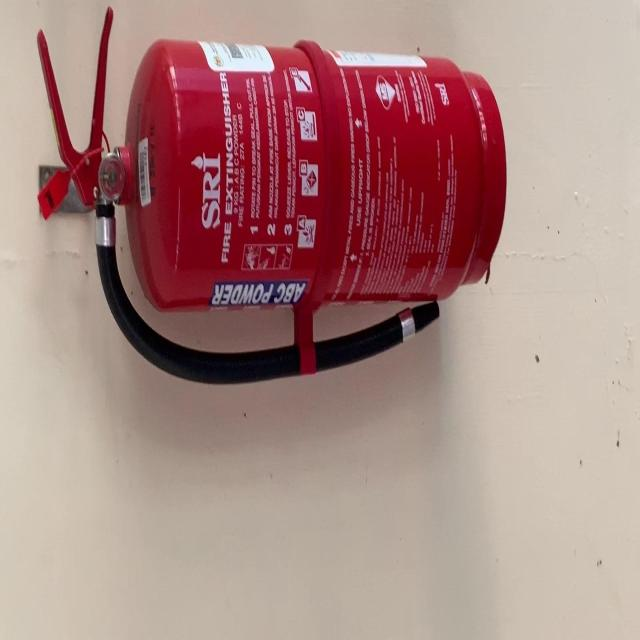fire_extinguisher: (28, 0, 512, 391)
